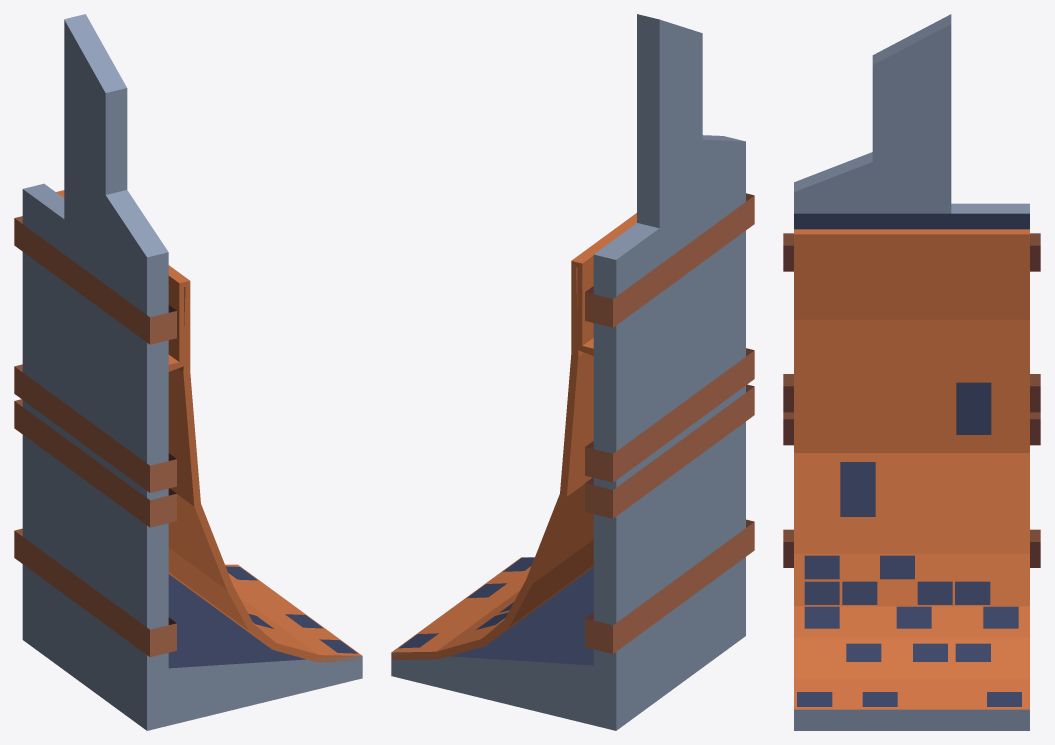
The model's file is orientir1.fbx.
3 renders of one model, left to right at view 1: azimuth 30°, elevation 25°; view 2: azimuth 150°, elevation 25°; view 3: azimuth 270°, elevation 25°, orthographic. The views are drawn at different scales.
Visible parts, largest first — view 1: Cube.012; view 2: Cube.012; view 3: Cube.012.
Part boxes in pixels (x1,y1,x2,y2): Cube.012: (14, 14, 362, 730); Cube.012: (391, 14, 754, 730); Cube.012: (783, 14, 1040, 730).
Size of the model in its own units: 2025 by 5774 by 2181.
